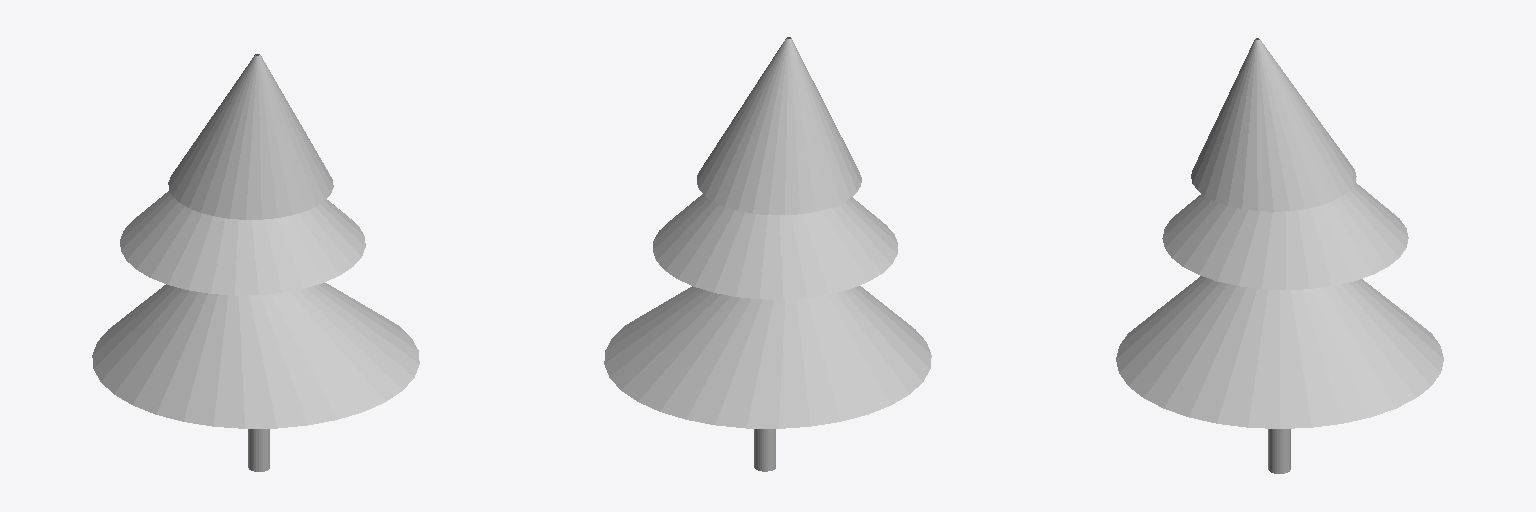
The model's file is pinheiro.obj.
3 renders of one model, left to right at view 1: azimuth 30°, elevation 25°; view 2: azimuth 150°, elevation 25°; view 3: azimuth 270°, elevation 25°, orthographic.
Visible parts, largest first — view 1: Cylinder; view 2: Cylinder; view 3: Cylinder.
Part boxes in pixels (bbox=[...]): Cylinder: bbox=[92, 54, 419, 471]; Cylinder: bbox=[604, 37, 931, 471]; Cylinder: bbox=[1116, 38, 1443, 473].
Size of the model in its own units: 6.53 by 9.31 by 6.53.